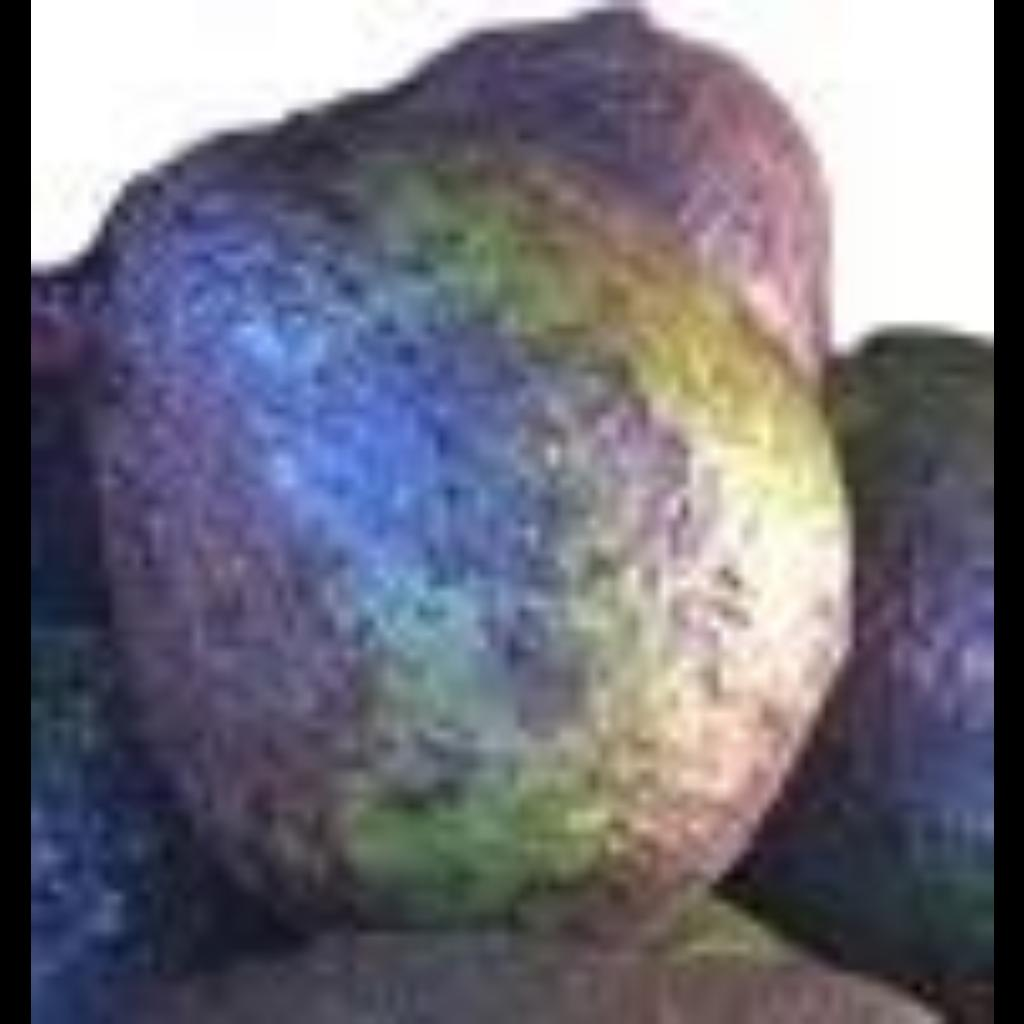Anthracnose: (147, 132, 907, 872)
